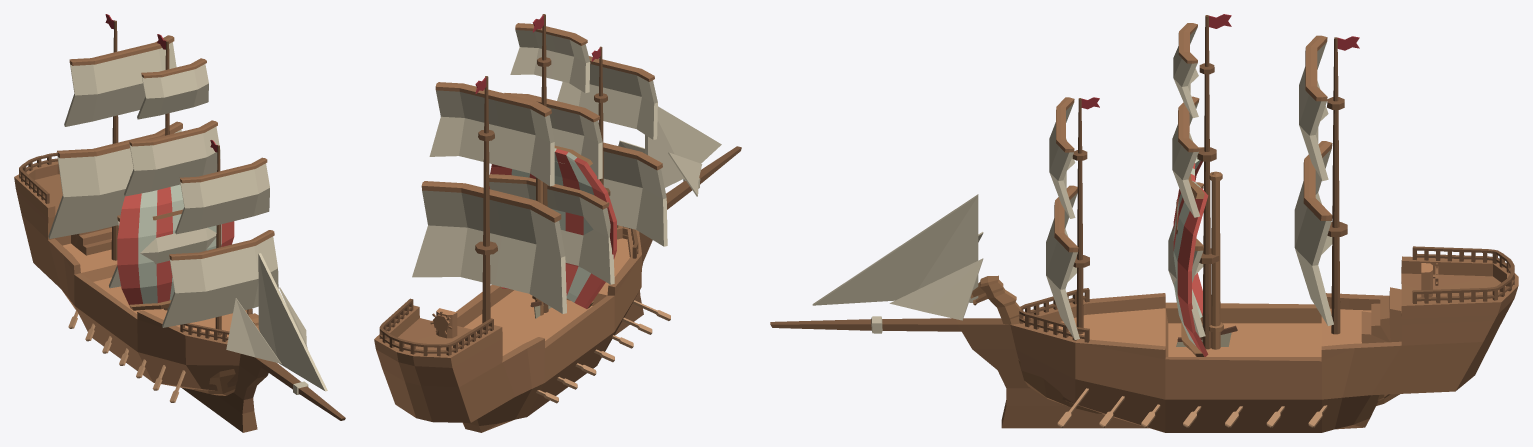
The model's file is ships.glb.
3 views of the same model, side by side, from view 1: azimuth 30°, elevation 25°; view 2: azimuth 150°, elevation 25°; view 3: azimuth 270°, elevation 25° (orthographic). The views are drawn at different scales.
Visible parts, largest first — view 1: Sail_ship, Viking_boat; view 2: Sail_ship, Viking_boat; view 3: Sail_ship, Viking_boat.
Part boxes in pixels (left/top/right/bottom): Sail_ship: left=14, top=14, right=345, bottom=432; Viking_boat: left=68, top=176, right=259, bottom=402; Sail_ship: left=374, top=14, right=741, bottom=432; Viking_boat: left=489, top=145, right=670, bottom=403; Sail_ship: left=770, top=14, right=1518, bottom=432; Viking_boat: left=970, top=147, right=1399, bottom=427.
Bounding box in the file's own units: 7.98 × 18.11 × 30.
